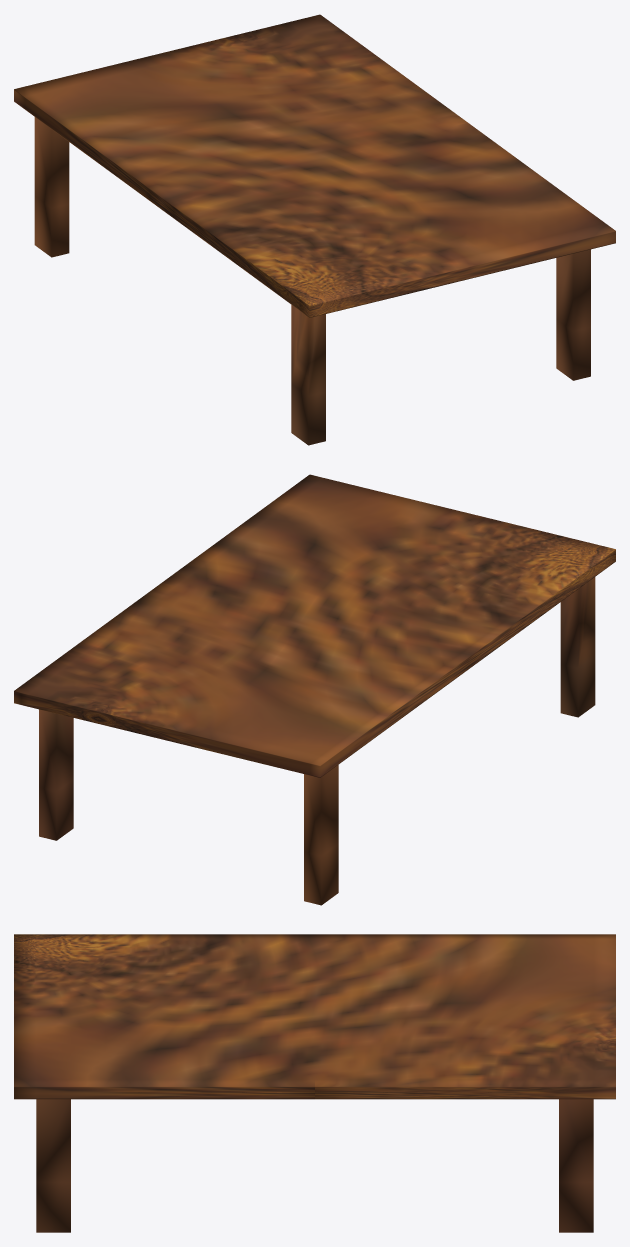
Rendered from table.glb.
3 views of the same model, one above another, from view 1: azimuth 30°, elevation 25°; view 2: azimuth 150°, elevation 25°; view 3: azimuth 270°, elevation 25° (orthographic).
Parts seen in each view (by area): view 1: Cube; view 2: Cube; view 3: Cube.
Boxes of the visible parts, left/top/right/bottom form: Cube: left=14, top=14, right=615, bottom=445; Cube: left=14, top=474, right=615, bottom=905; Cube: left=14, top=934, right=615, bottom=1232.
Size of the model in its own units: 6.9 by 3.23 by 11.54.
Materials: 1 (1 with a texture image).
